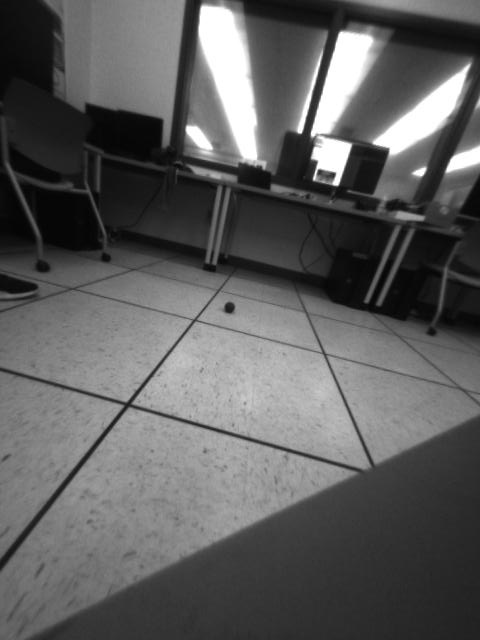dogtoy: (217, 292, 243, 317)
